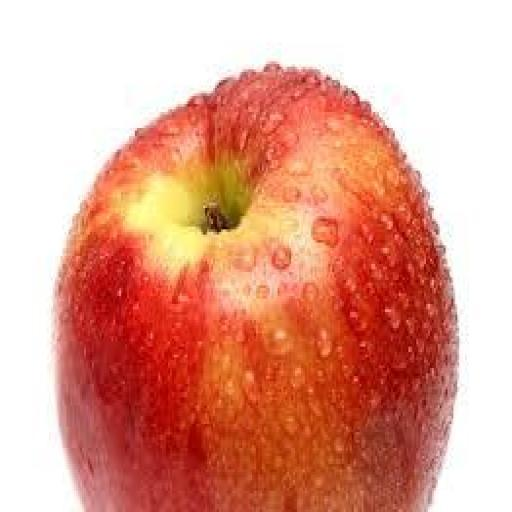apple: (55, 64, 457, 511)
